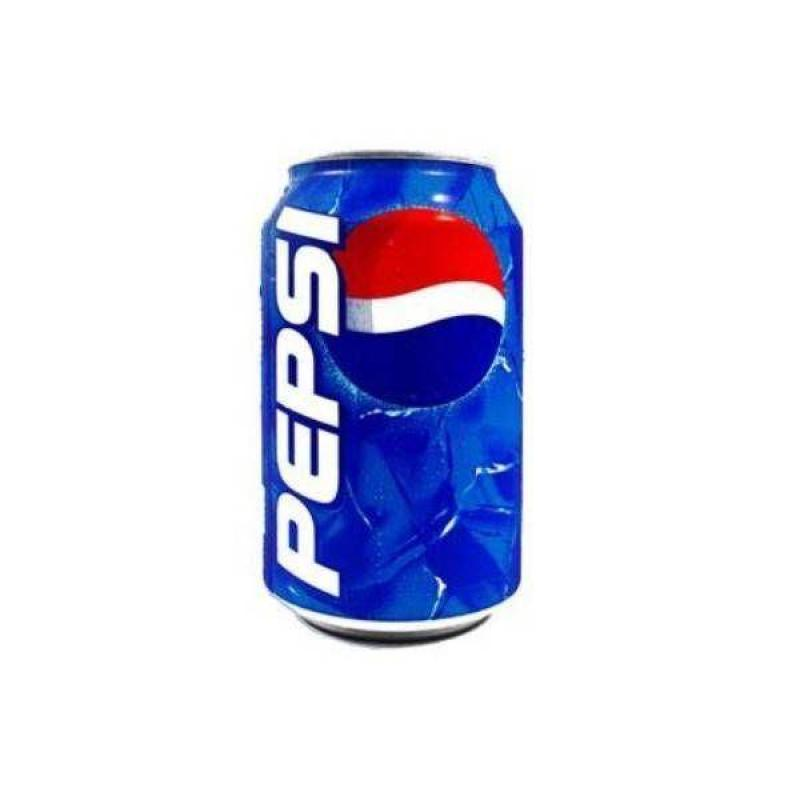pepsi: (314, 199, 506, 408), (314, 202, 506, 408)
